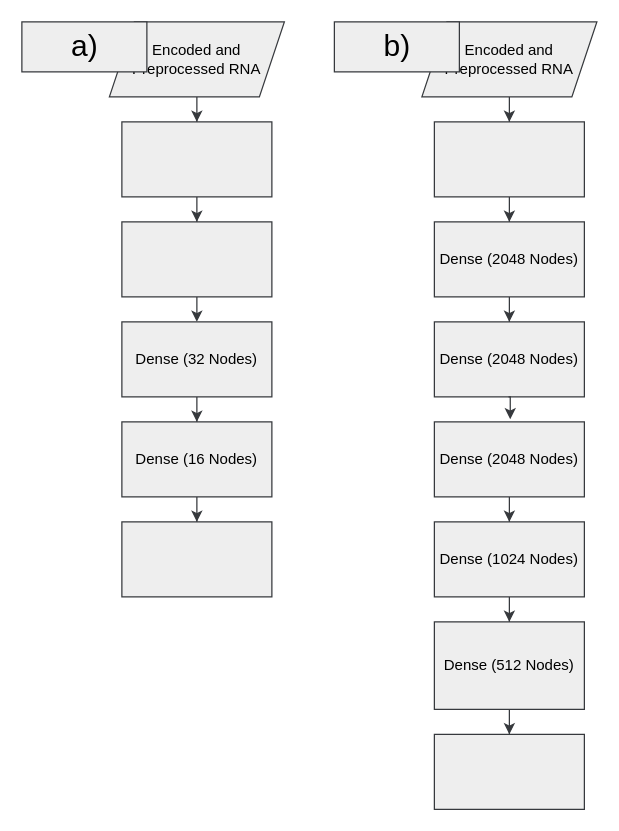
Some shapes in this 619 by 831 pixel diagram are drawn without their labels. The centre of each missing label's shape, as x and y in pixels:
"Dense (64 Nodes)" belongs at point (196, 259).
"Input Layer (256 nodes)" belongs at point (508, 159).
"Input Layer (64 nodes)" belongs at point (196, 159).
"Output Layer (1 Node)" belongs at point (196, 559).
"Output Layer (8 Nodes)" belongs at point (508, 771).
